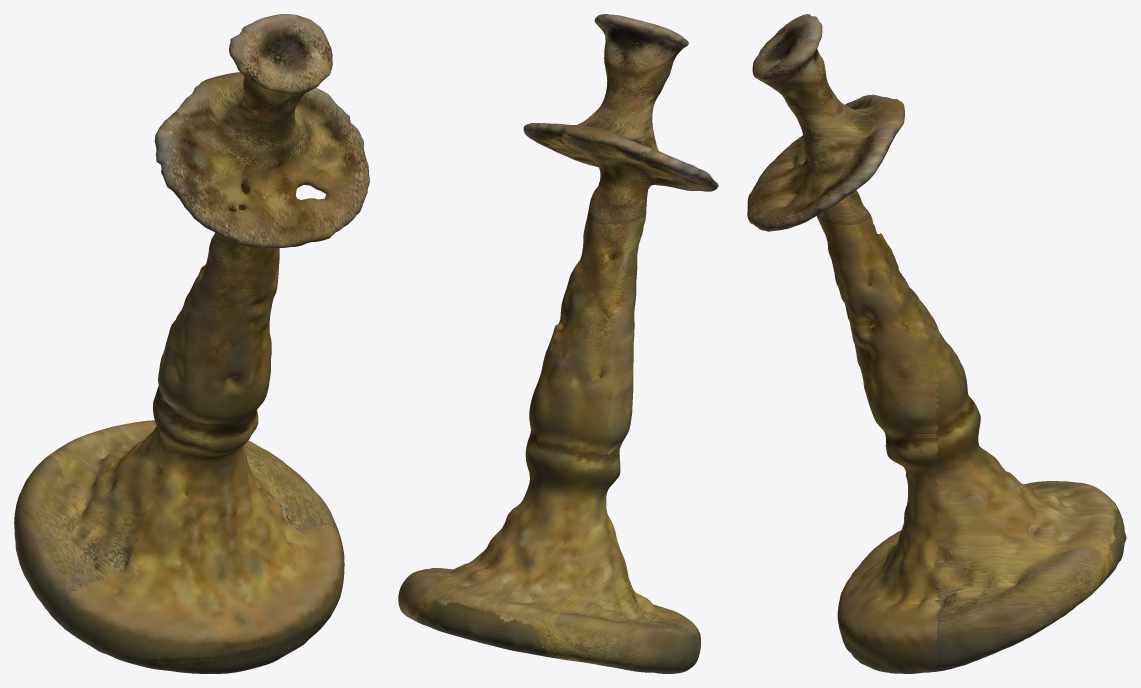
File: kfl-2155.glb
3 renders of one model, left to right at view 1: azimuth 30°, elevation 25°; view 2: azimuth 150°, elevation 25°; view 3: azimuth 270°, elevation 25°, orthographic. The views are drawn at different scales.
Visible parts, largest first — view 1: geometry_0; view 2: geometry_0; view 3: geometry_0.
Part boxes in pixels (x1,y1,x2,y2): geometry_0: (14, 14, 369, 673); geometry_0: (398, 14, 718, 673); geometry_0: (747, 14, 1126, 673).
Size of the model in its own units: 0.4515 by 0.9942 by 0.5514.
Materials: 1 (1 with a texture image).
